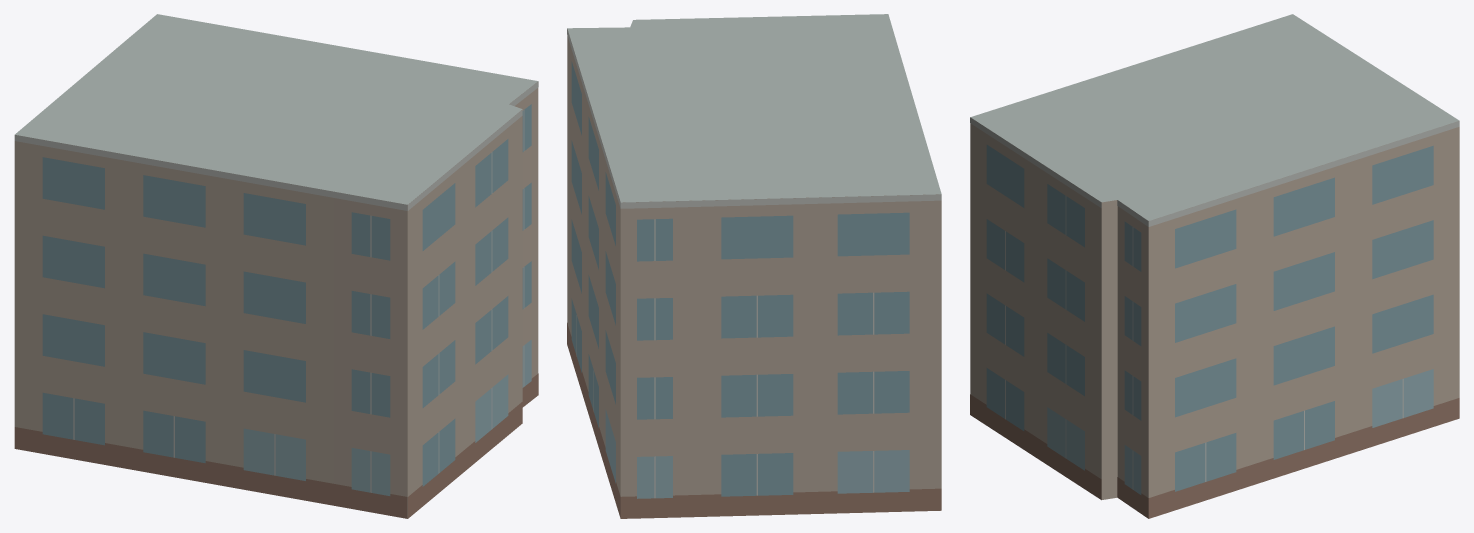
The model's file is survey-upis-32676299.glb.
The picture shows the model from 3 angles, left to right: view 1: azimuth 30°, elevation 25°; view 2: azimuth 150°, elevation 25°; view 3: azimuth 270°, elevation 25°; orthographic projection. The views are drawn at different scales.
Parts seen in each view (by area): view 1: survey-upis-32676299.tmp; view 2: survey-upis-32676299.tmp; view 3: survey-upis-32676299.tmp.
Part boxes in pixels (box(x1,y1,x2,y2)): survey-upis-32676299.tmp: box(14, 14, 538, 518); survey-upis-32676299.tmp: box(567, 14, 941, 518); survey-upis-32676299.tmp: box(970, 14, 1459, 518).
Size of the model in its own units: 18.21 by 12.2 by 18.18.
